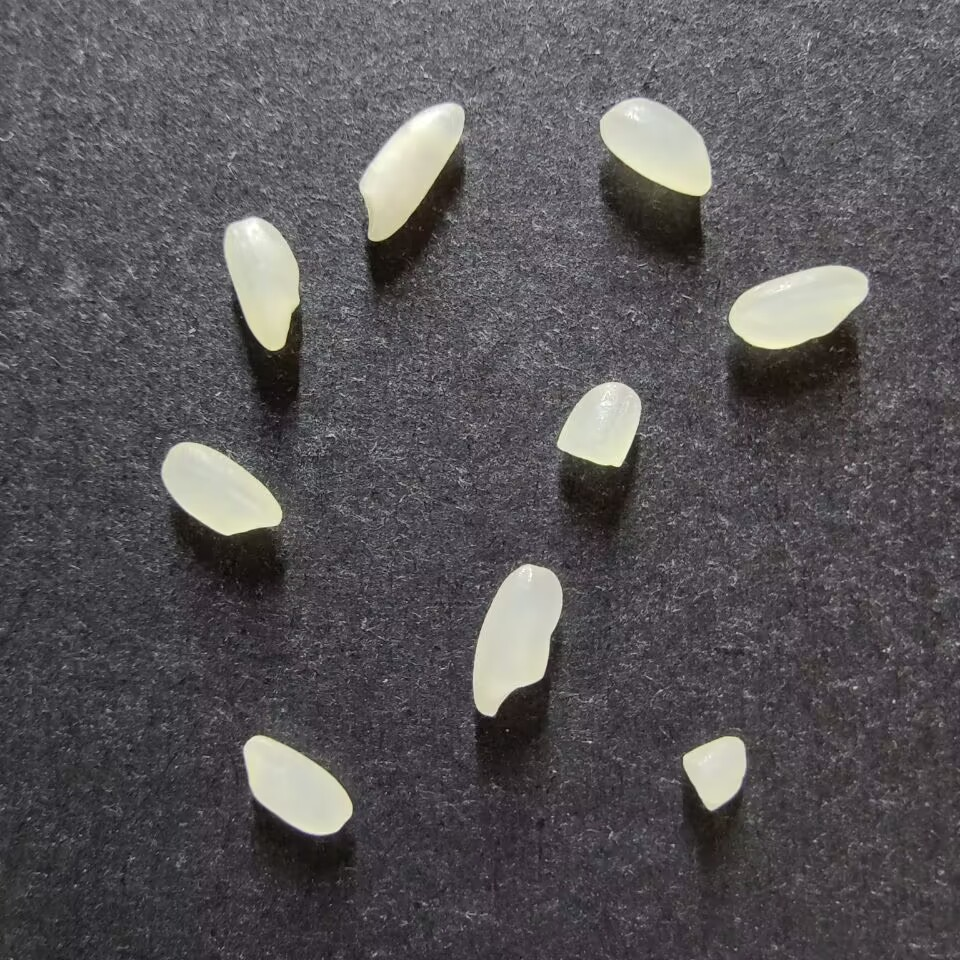broken: (557, 380, 642, 467), (682, 735, 747, 811)
rice: (358, 101, 466, 241), (472, 563, 563, 717), (728, 265, 870, 349), (161, 441, 283, 535), (599, 97, 713, 197), (243, 734, 353, 835), (224, 216, 302, 351)
